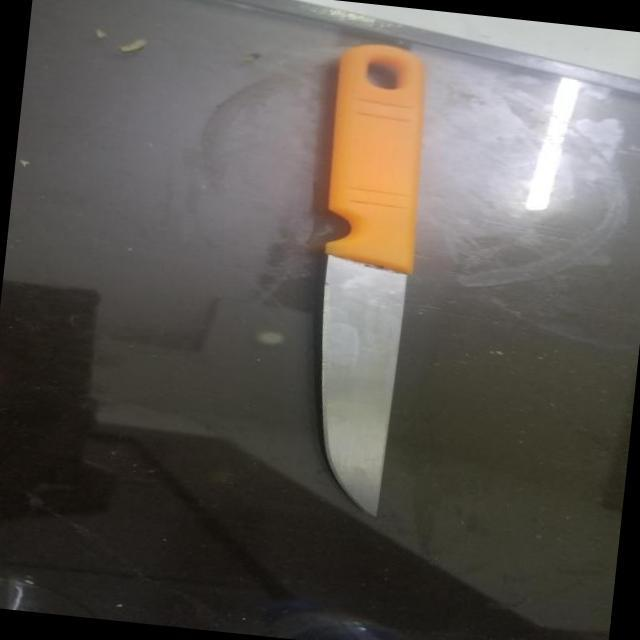Knife: (251, 22, 465, 535)
